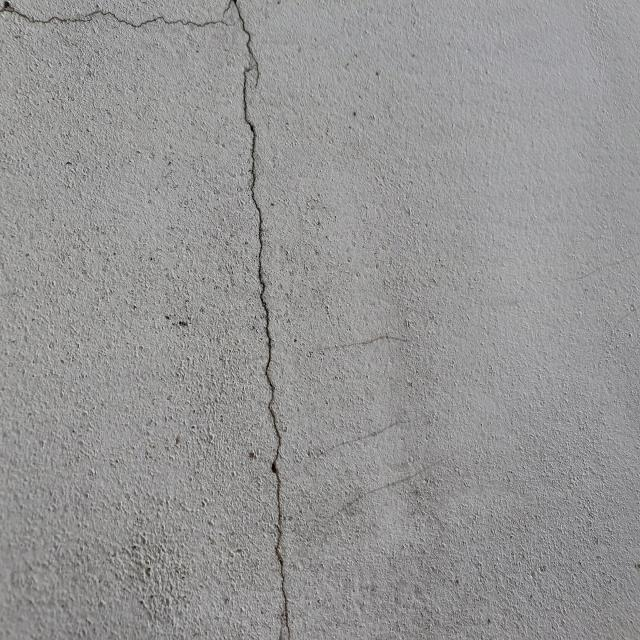SurfaceCrack: (196, 2, 334, 640)
